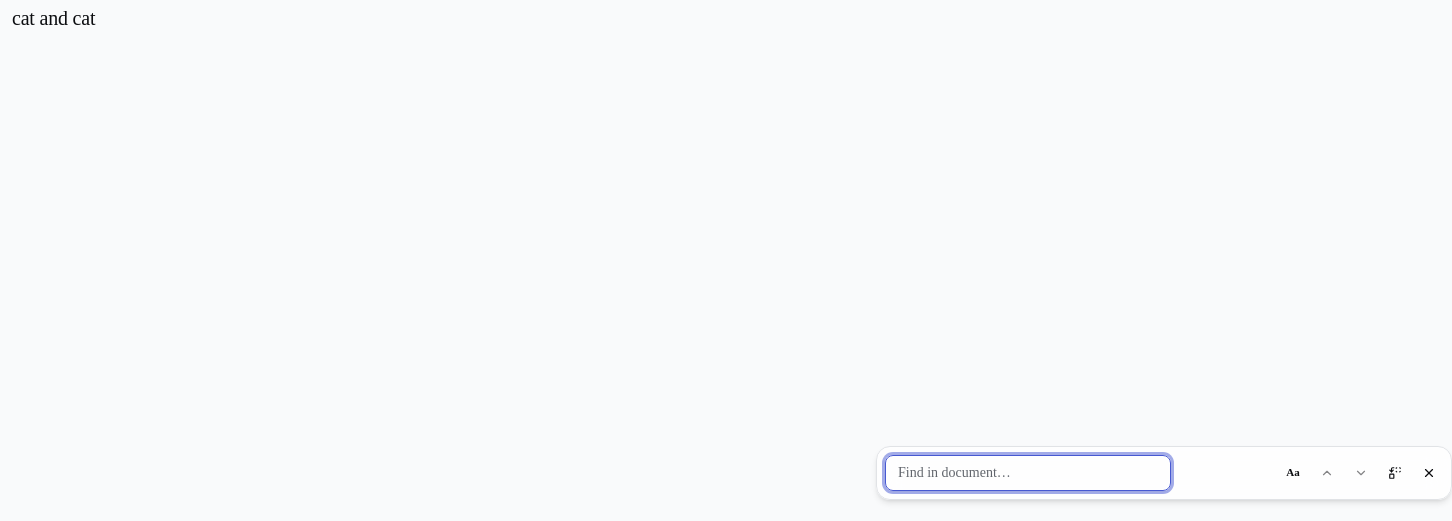
match count › says No matches rather than 0 of 0
Expected: the element named "find and replace" is shown, [876,446,1451,500]
Type "zebra" into the field with placeholder "Find in document…" at (1028, 472), box [885,454,1171,490]
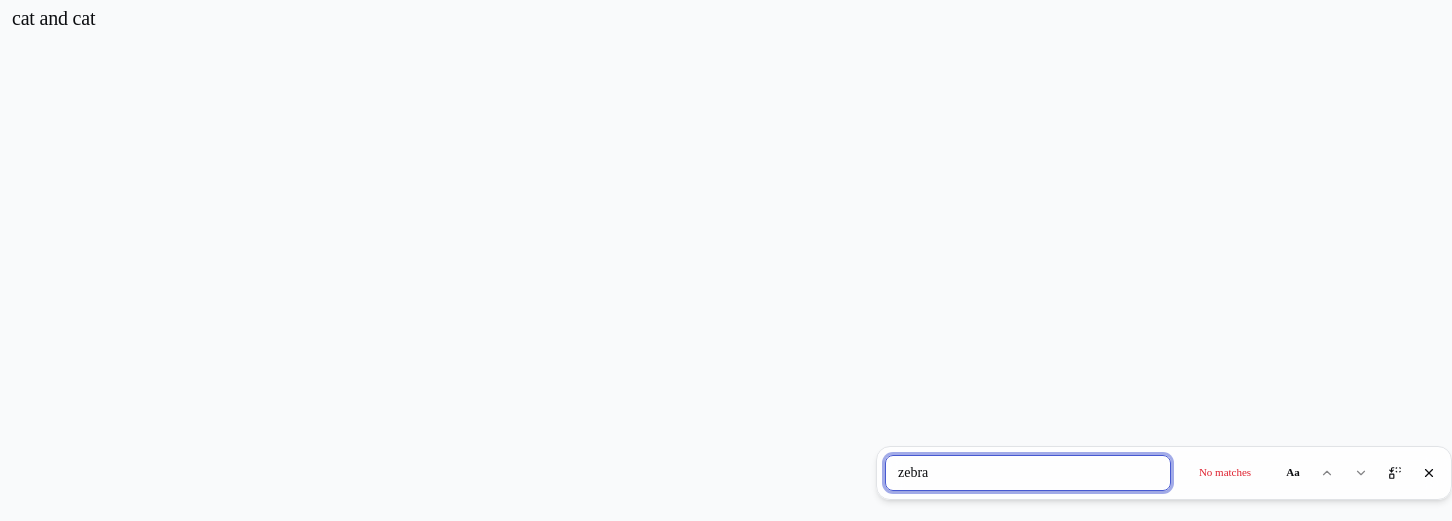
Expected: the text "No matches" is shown, [1199,466,1251,478]
